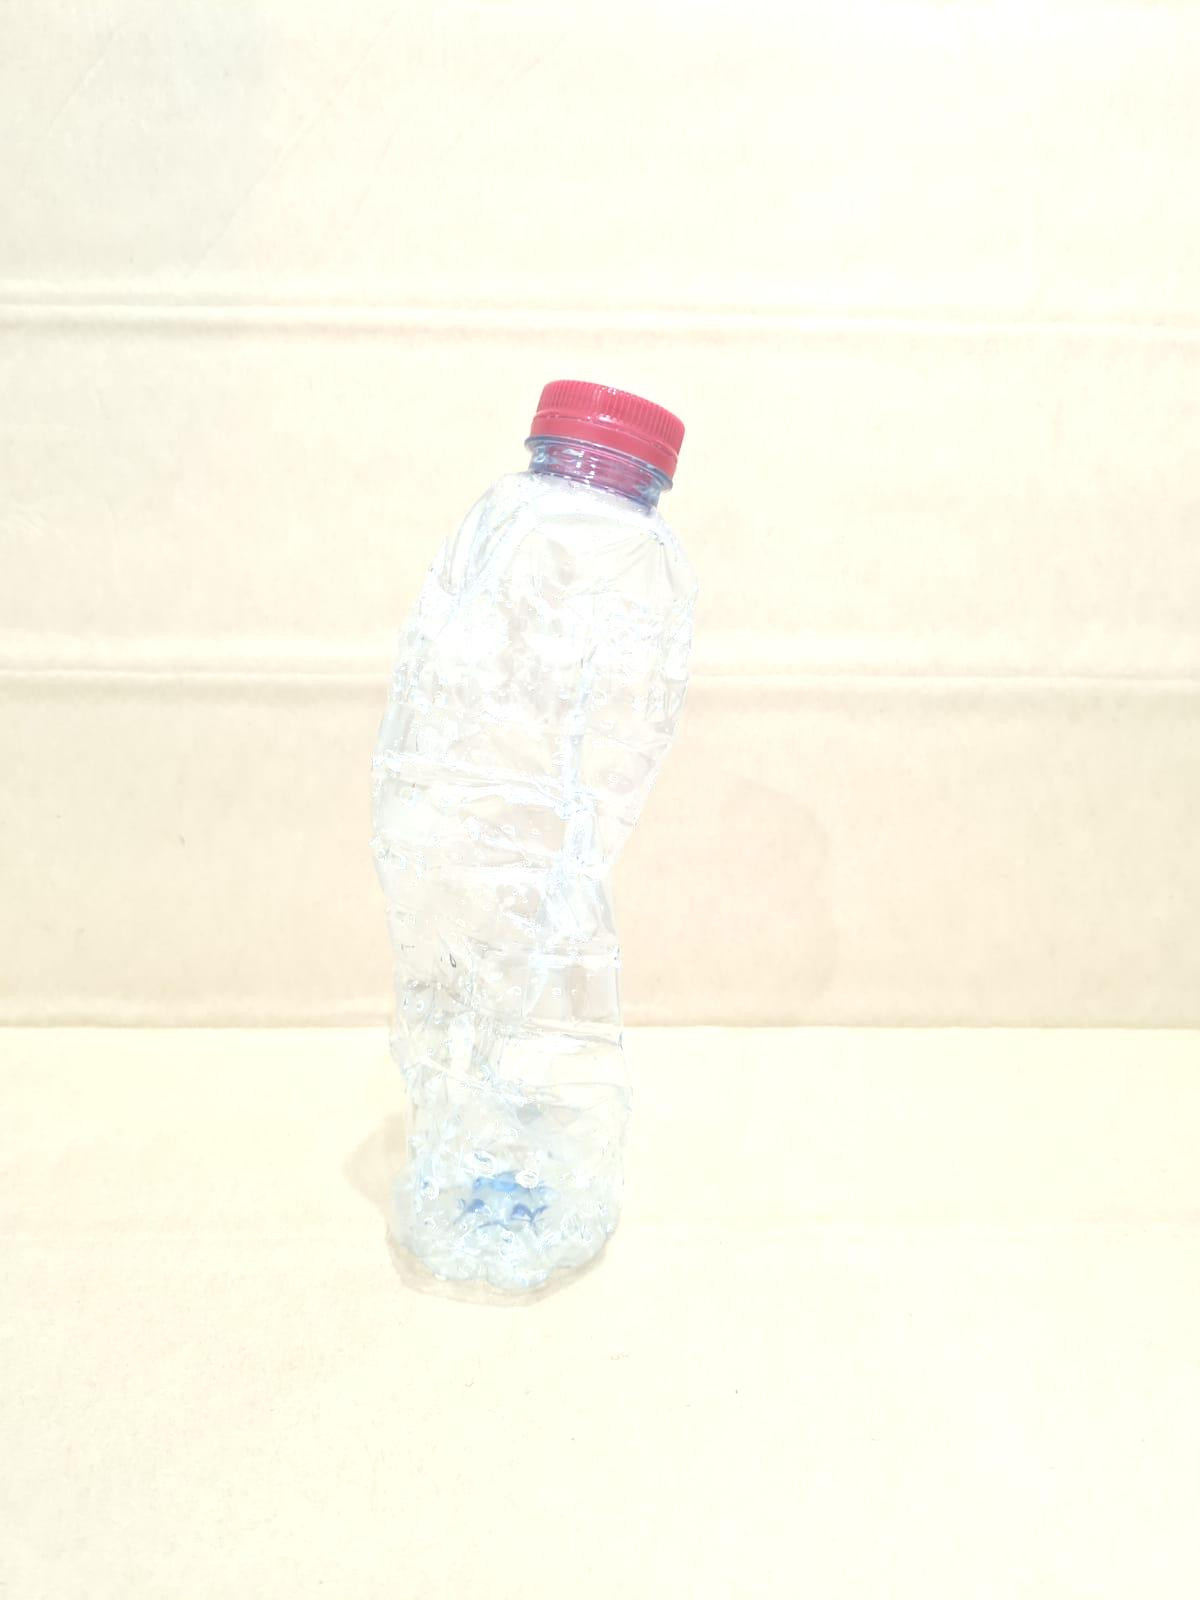bottle: (338, 362, 708, 1315)
